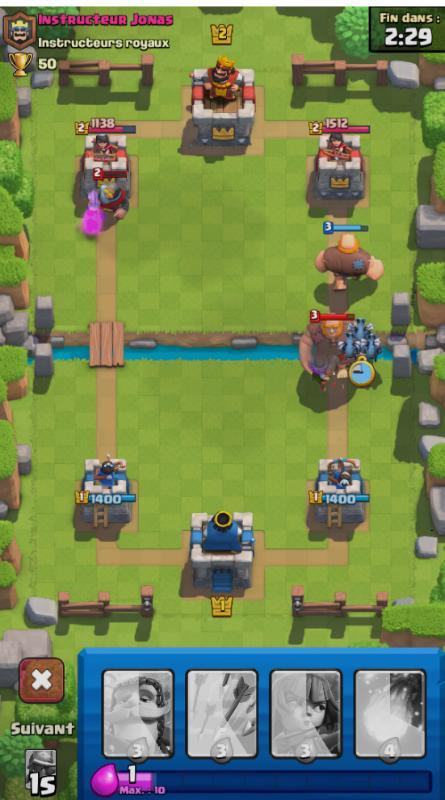enemy_giant: (294, 309, 355, 388)
enemy_knight: (91, 169, 133, 221)
player_giant: (309, 224, 387, 291)
player_minions: (336, 327, 364, 359), (360, 331, 385, 360)
